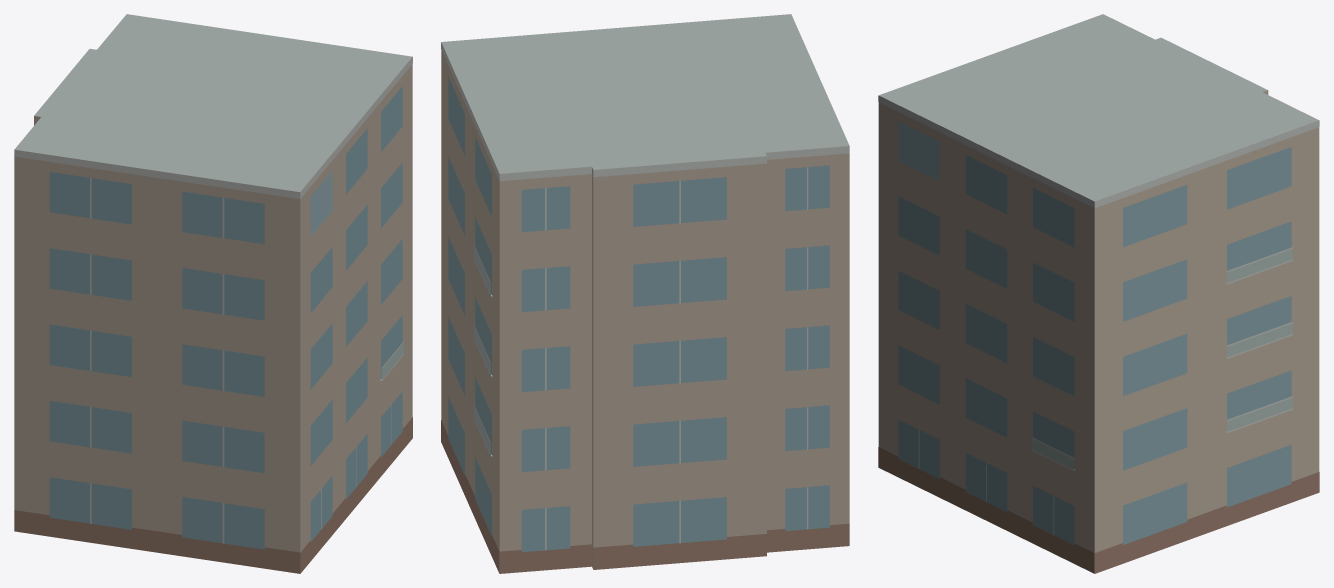
File: survey-upis-32630084.glb
3 views of the same model, side by side, from view 1: azimuth 30°, elevation 25°; view 2: azimuth 150°, elevation 25°; view 3: azimuth 270°, elevation 25° (orthographic). The views are drawn at different scales.
Parts seen in each view (by area): view 1: survey-upis-32630084.tmp; view 2: survey-upis-32630084.tmp; view 3: survey-upis-32630084.tmp.
Boxes of the visible parts, x1,y1,x2,y2 form: survey-upis-32630084.tmp: [14, 14, 412, 573]; survey-upis-32630084.tmp: [441, 14, 849, 573]; survey-upis-32630084.tmp: [878, 14, 1319, 573].
Bounding box in the file's own units: 14.49 × 13.4 × 14.39.
